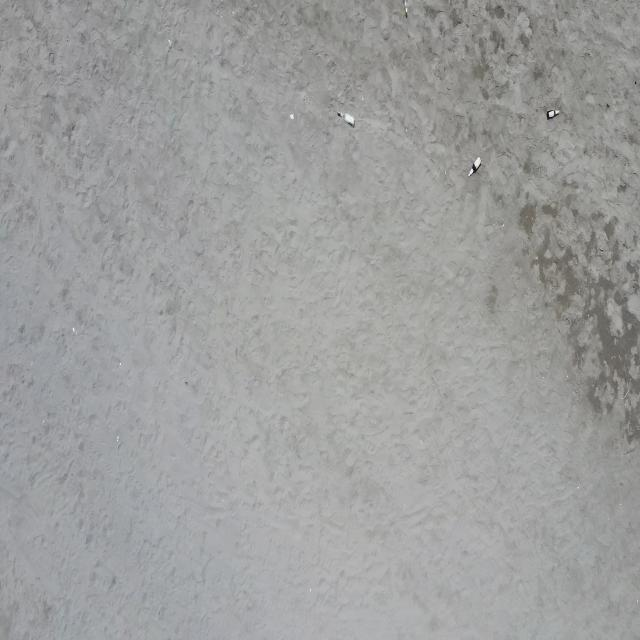glass: (468, 155, 482, 177), (338, 110, 355, 127), (547, 109, 560, 120), (402, 0, 409, 13)
